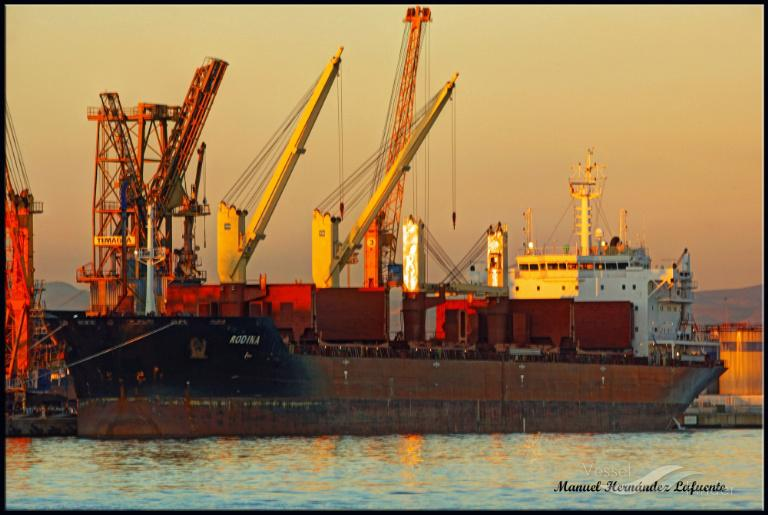OCR: (222, 328, 266, 352)
